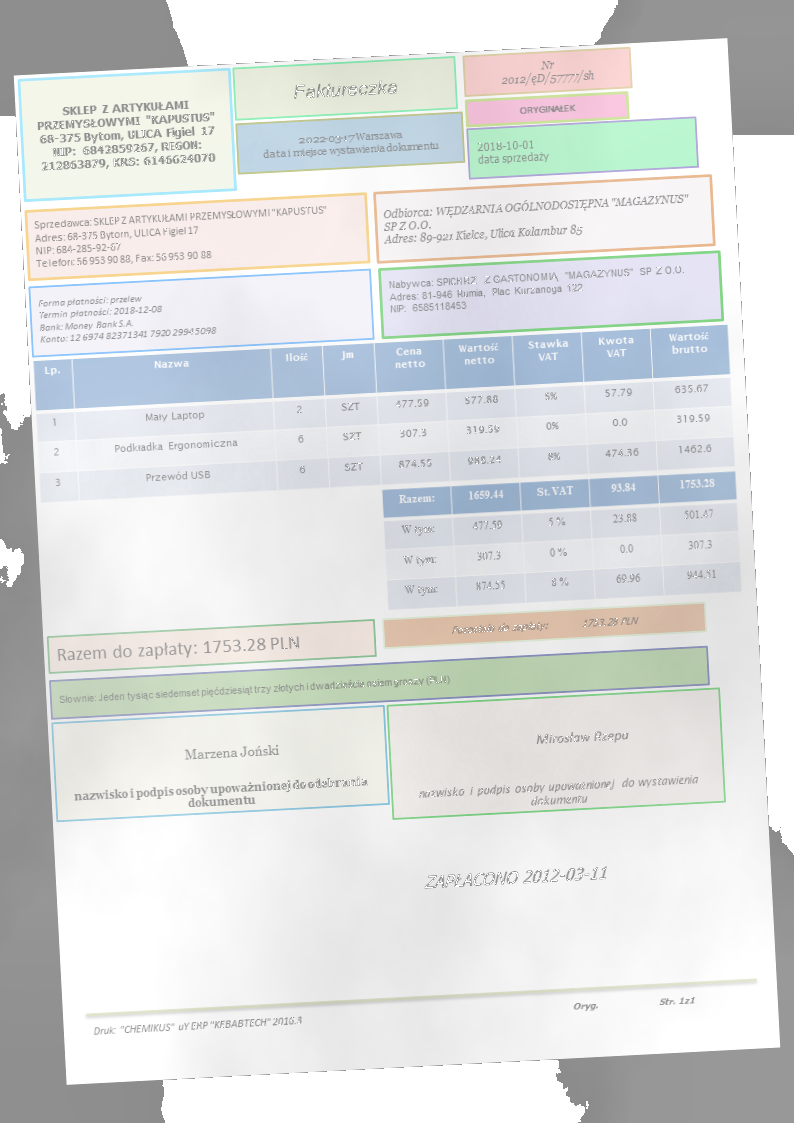Table: (31, 322, 737, 505), (380, 468, 744, 609)
TextBox: (30, 200, 330, 272), (380, 188, 693, 249), (387, 261, 687, 316), (32, 93, 219, 175), (55, 671, 454, 709), (71, 772, 371, 817), (415, 770, 701, 814), (35, 287, 219, 346), (52, 630, 302, 666), (259, 124, 441, 163), (421, 859, 613, 893), (90, 1011, 307, 1039), (447, 611, 642, 639), (289, 74, 400, 105), (498, 55, 596, 90), (570, 992, 698, 1014), (179, 738, 281, 764), (474, 134, 549, 168), (533, 724, 632, 749), (516, 99, 575, 118)
